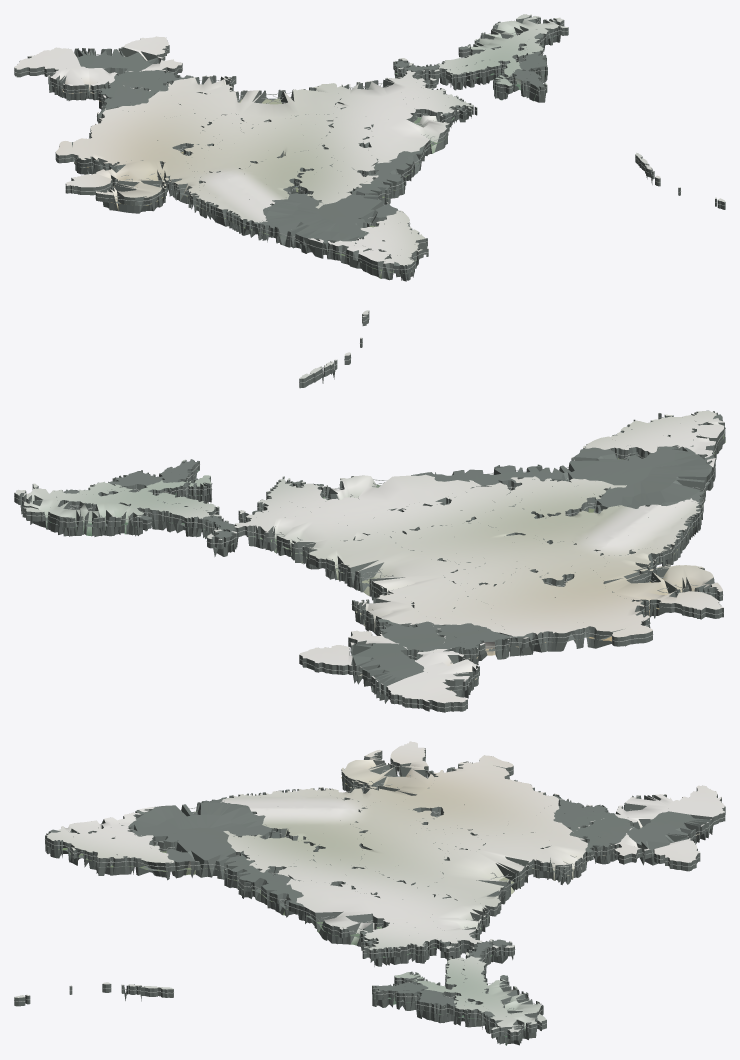
The model's file is ncct-india.glb.
The picture shows the model from 3 angles, top to bottom: view 1: azimuth 30°, elevation 25°; view 2: azimuth 150°, elevation 25°; view 3: azimuth 270°, elevation 25°; orthographic projection. The views are drawn at different scales.
Parts seen in each view (by area): view 1: INDIA_BASE, BOUNDARIES; view 2: INDIA_BASE, BOUNDARIES; view 3: INDIA_BASE, BOUNDARIES.
Part boxes in pixels (x1,y1,x2,y2): INDIA_BASE: (14,14,725,281); BOUNDARIES: (14,21,725,270); INDIA_BASE: (14,310,725,712); BOUNDARIES: (14,315,725,708); INDIA_BASE: (14,741,725,1045); BOUNDARIES: (14,754,725,1036).
Size of the model in its own units: 8.79 by 0.2942 by 9.1.
